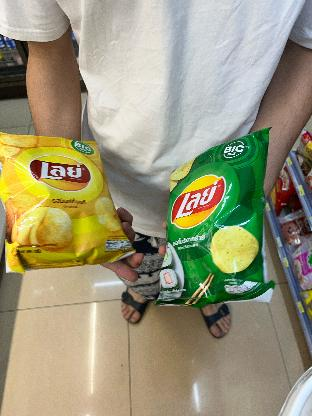Plastic Packaging: (155, 128, 282, 309), (0, 120, 140, 280)
